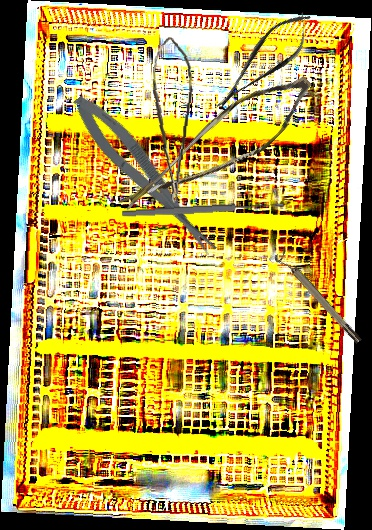Fixation Ring: (272, 247, 364, 349)
Micro Scissor: (116, 46, 322, 251), (64, 86, 224, 266), (203, 2, 324, 121), (140, 35, 198, 204)
Surgical Spoon: (121, 200, 285, 219)
